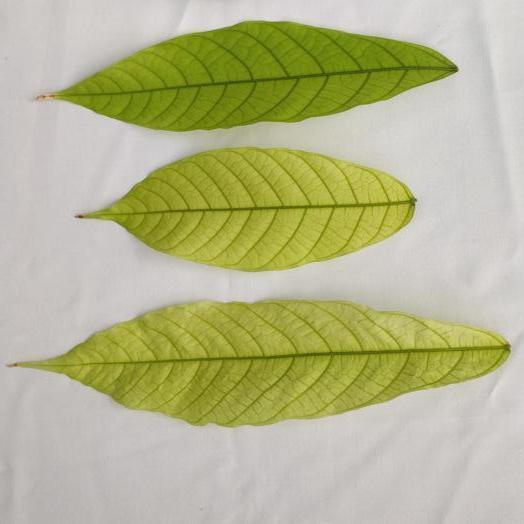Iron: (16, 300, 509, 426), (42, 21, 457, 129), (81, 147, 415, 270)
